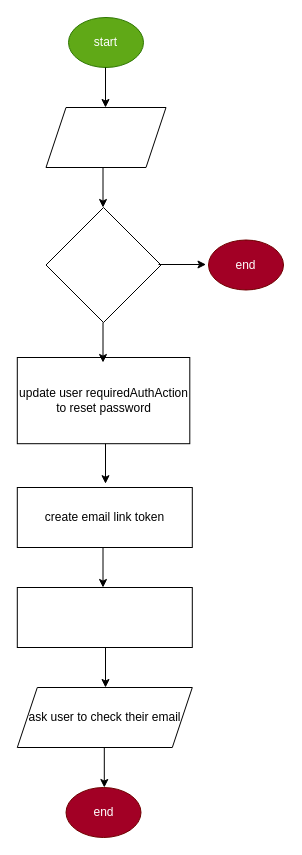
Some shapes in this 302 by 855 pixel diagram are drawn without their labels. Here are the shapes that lost their labels. From the top down, the centre of each, then its label:
[105,137]: input email
[103,264]: input valid?
[104,617]: send the link to user email
